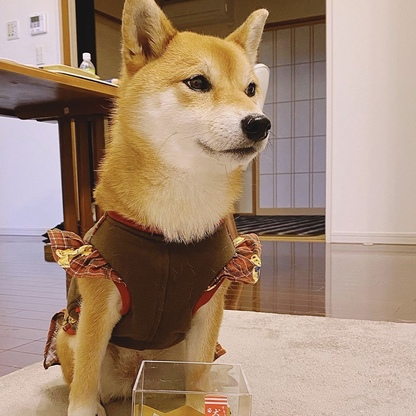shiba: (41, 1, 274, 416)
